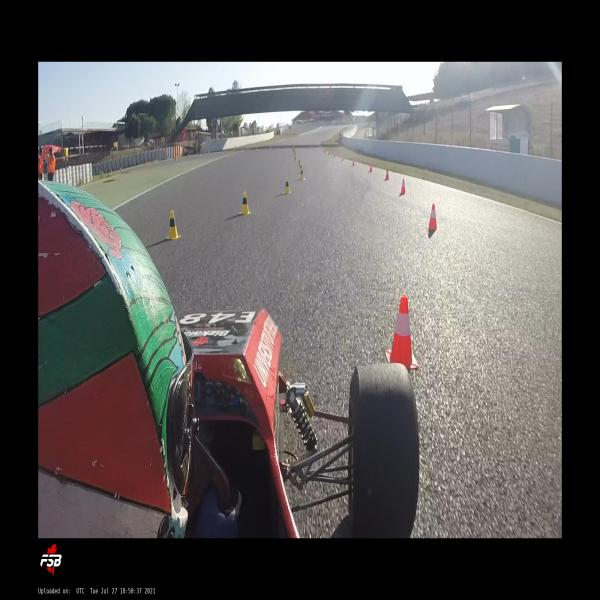orange_cone: (385, 294, 418, 370), (427, 203, 438, 230), (400, 178, 406, 195), (385, 169, 389, 180), (370, 163, 372, 172), (352, 159, 355, 165)
yellow_cone: (165, 210, 181, 240), (238, 191, 252, 214), (283, 178, 291, 194), (300, 168, 305, 180), (299, 164, 302, 174), (298, 158, 300, 167)
